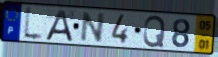4: (110, 14, 130, 46)
8: (172, 18, 192, 49)
A: (43, 9, 74, 43)
L: (22, 5, 45, 44)
N: (79, 11, 107, 44)
Q: (142, 14, 167, 49)
